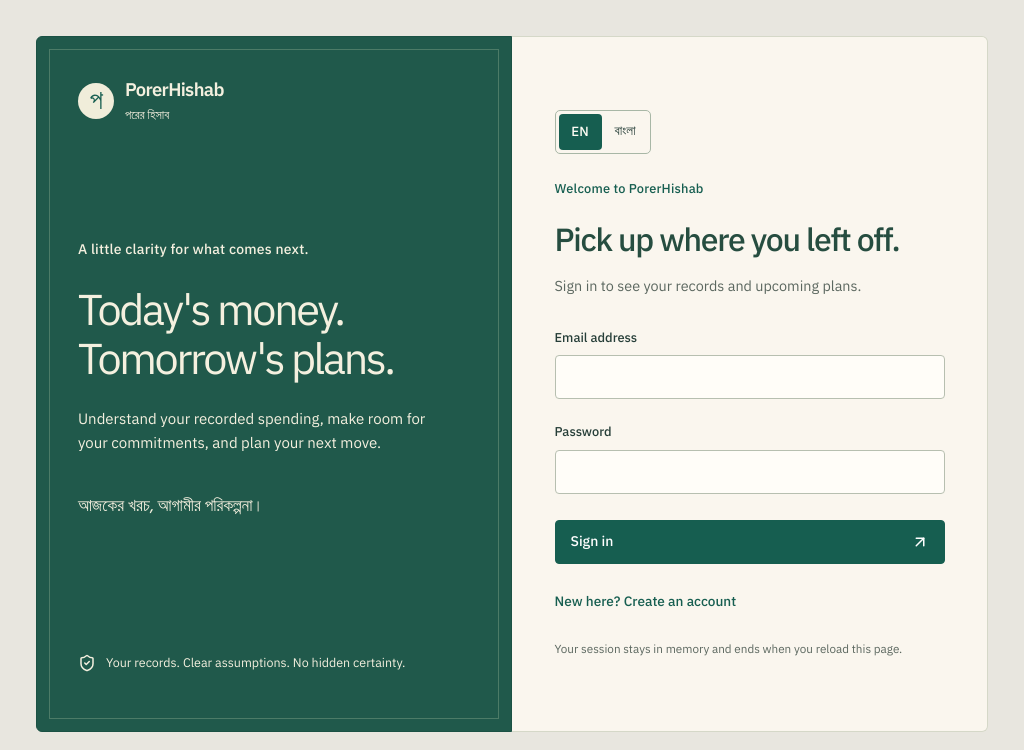
Test case: English and Bengali interface › localizes an existing failure when switching languages and restores its English detail
Type "reader@example.com" into the field labelled "Email address" at coordinates (750, 378), box [554, 356, 944, 400]
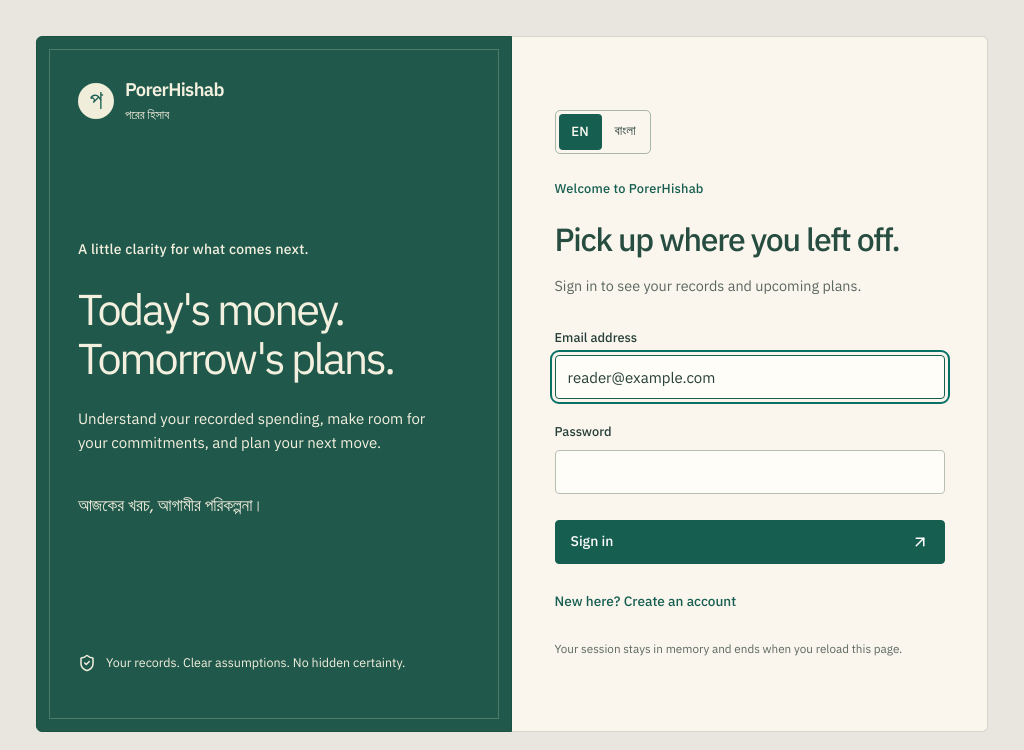
Type "wrong-password" into the password field labelled "Password" at coordinates (750, 472), box [554, 450, 944, 494]
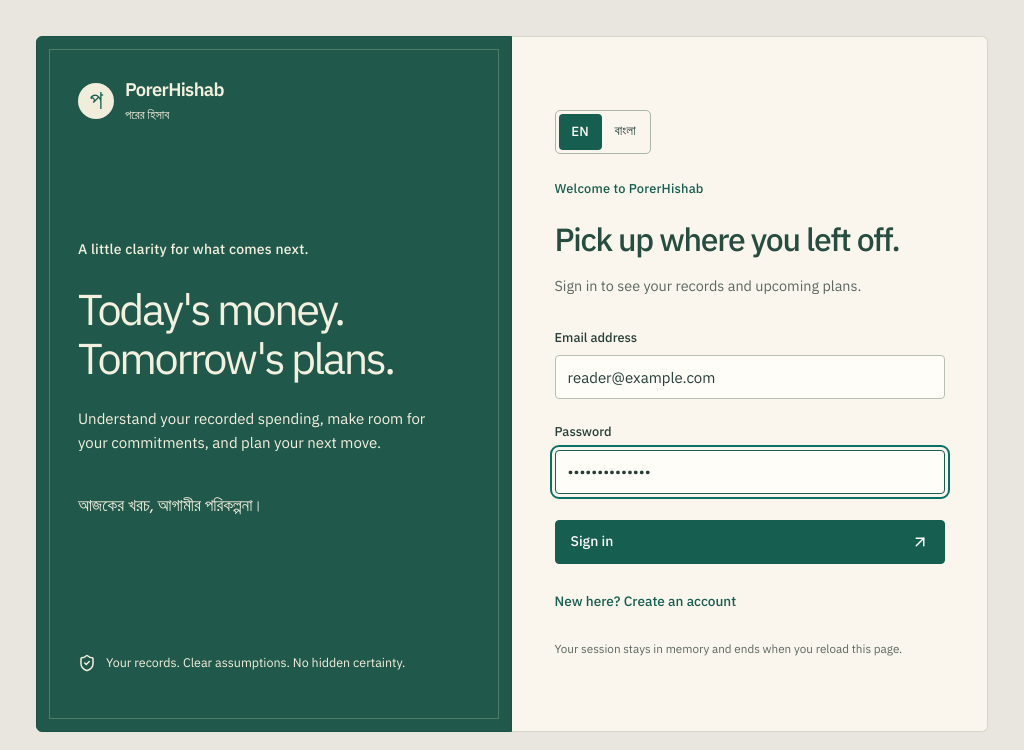
Click the button "Sign in" at coordinates (592, 541), box [554, 520, 944, 564]
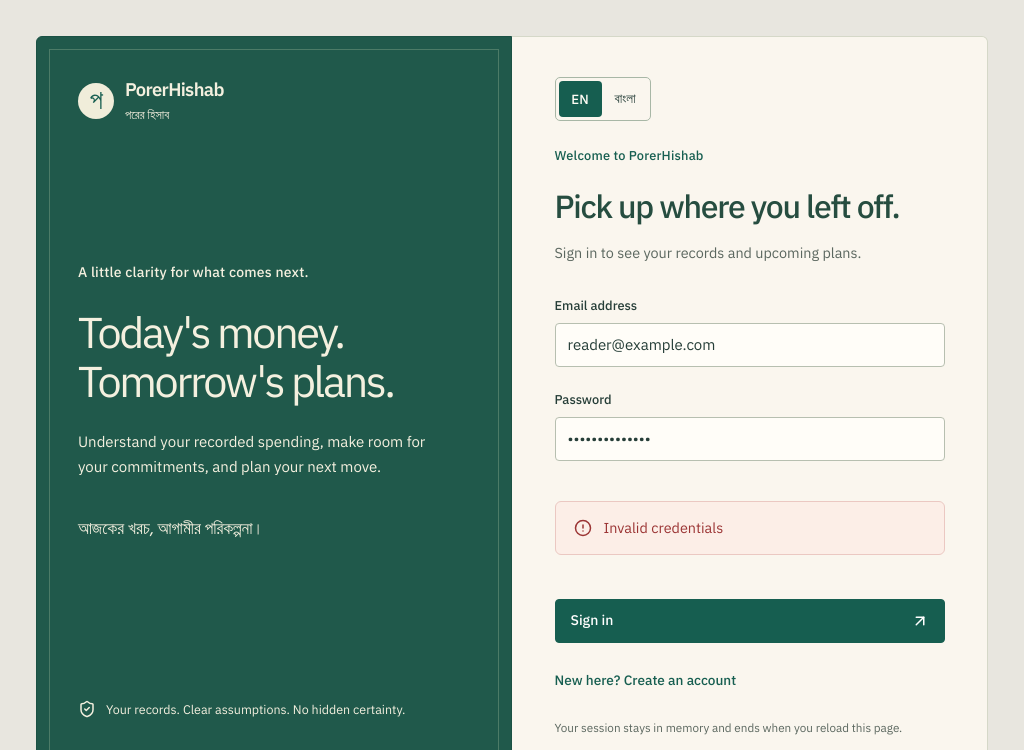
expect the message reads "Invalid credentials": met, box [604, 518, 723, 537]
Click the button "বাংলা" at coordinates (625, 99), box [604, 81, 646, 117]
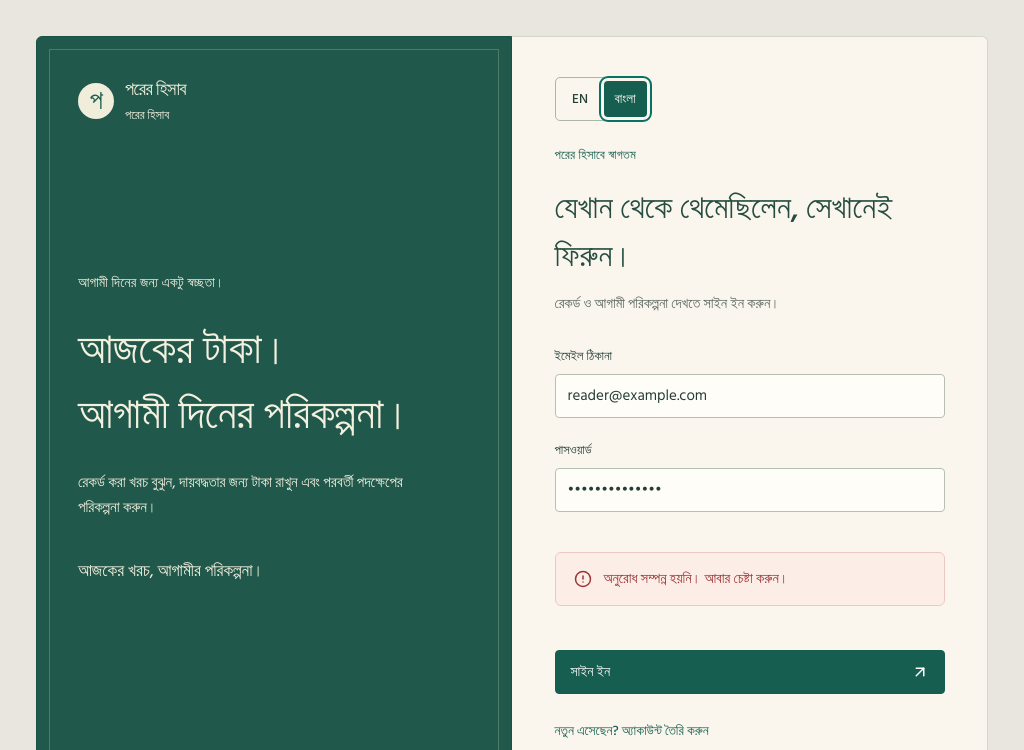
Click the button "EN" at coordinates (580, 99), box [558, 81, 602, 117]
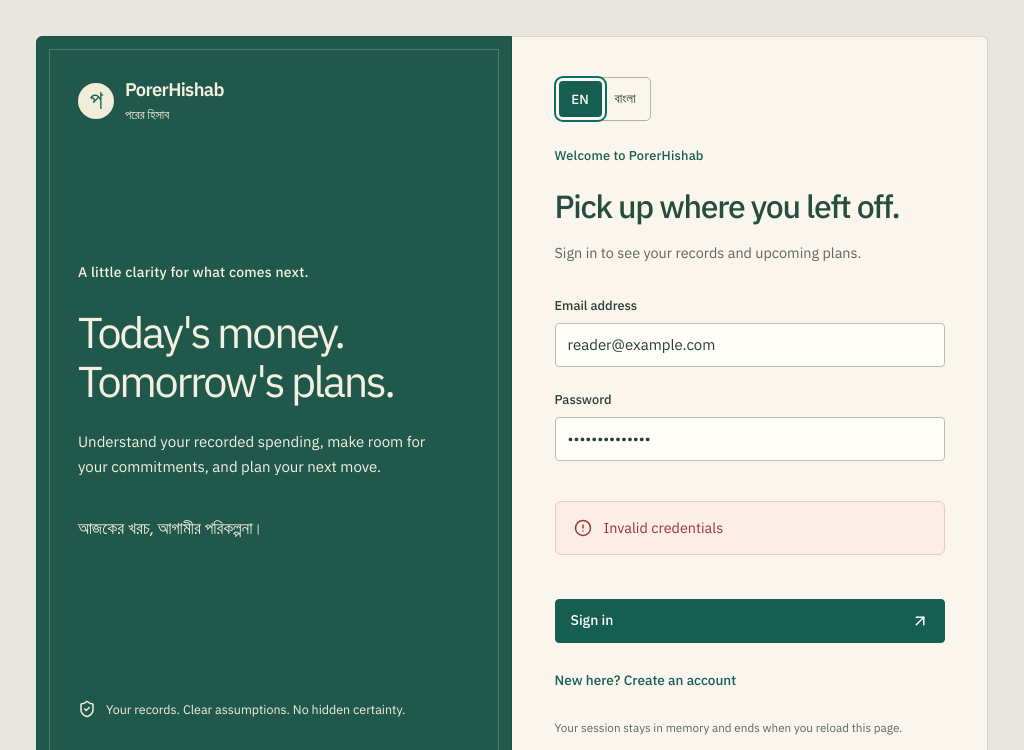
expect the message reads "Invalid credentials": met, box [604, 518, 723, 537]
